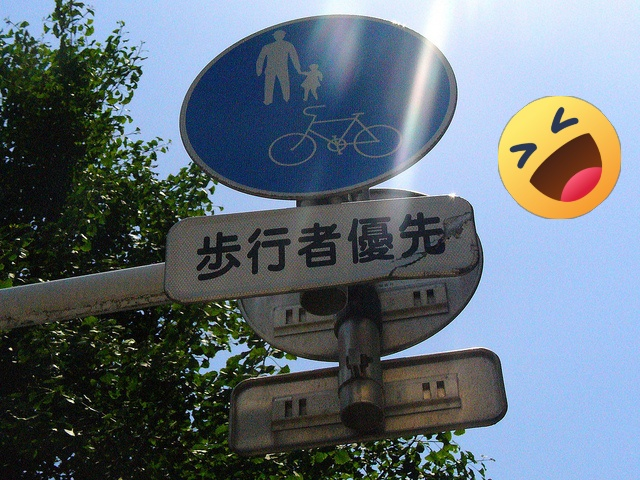haha: (498, 96, 621, 219)
